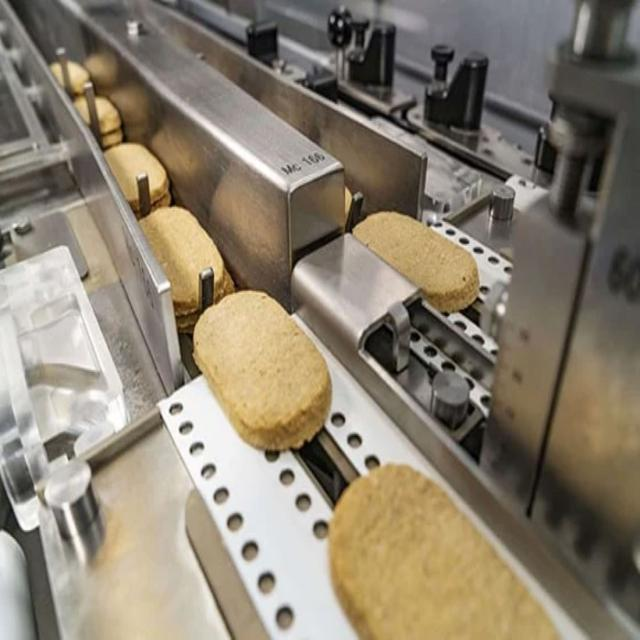food: (327, 436, 576, 640), (188, 283, 338, 455)
